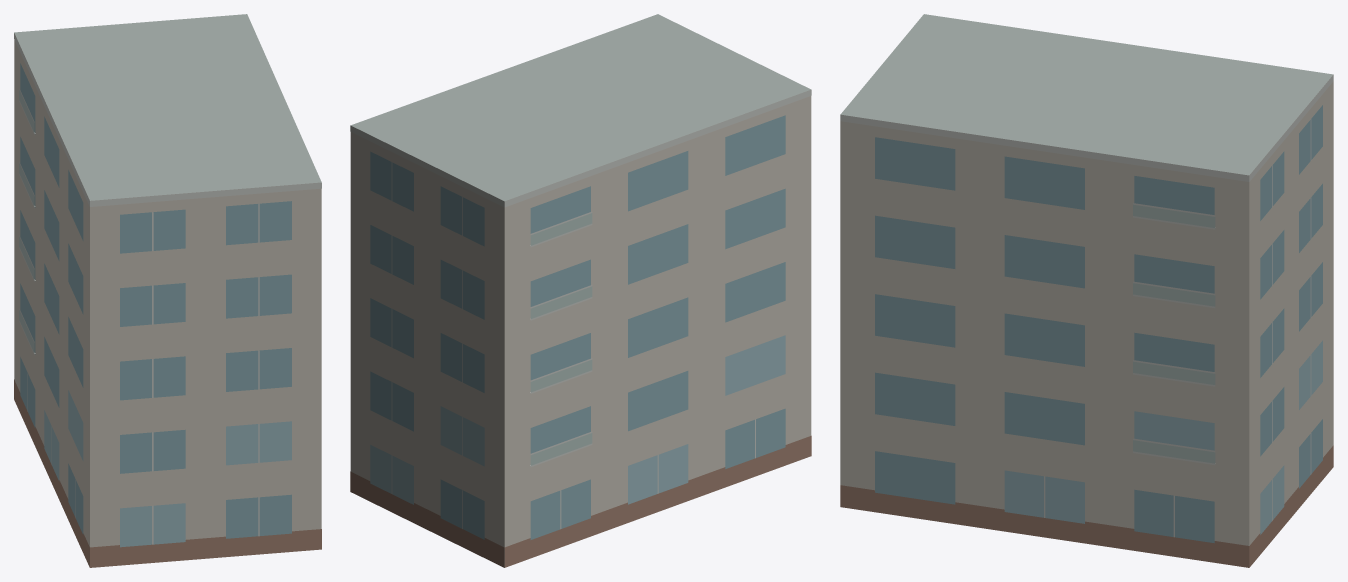
File: survey-upis-32853517.glb
3 views of the same model, side by side, from view 1: azimuth 30°, elevation 25°; view 2: azimuth 150°, elevation 25°; view 3: azimuth 270°, elevation 25° (orthographic). The views are drawn at different scales.
Parts seen in each view (by area): view 1: survey-upis-32853517.tmp; view 2: survey-upis-32853517.tmp; view 3: survey-upis-32853517.tmp.
Part boxes in pixels (<box>): survey-upis-32853517.tmp: <box>14,14,321,567</box>; survey-upis-32853517.tmp: <box>350,14,811,567</box>; survey-upis-32853517.tmp: <box>840,14,1333,567</box>.
Size of the model in its own units: 12.76 by 14.45 by 16.47.
